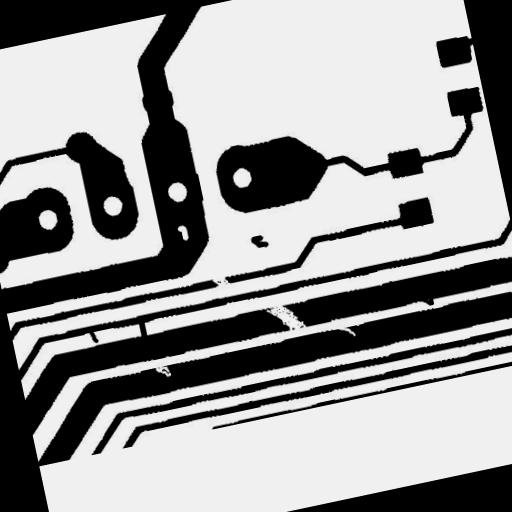copper: (241, 224, 277, 258)
mousebite: (144, 352, 180, 387), (327, 314, 364, 348)
open: (255, 288, 315, 345), (202, 266, 237, 295)
pin-hole: (168, 215, 198, 250)
short: (127, 307, 156, 348)
spur: (74, 317, 107, 353), (412, 285, 442, 315)
